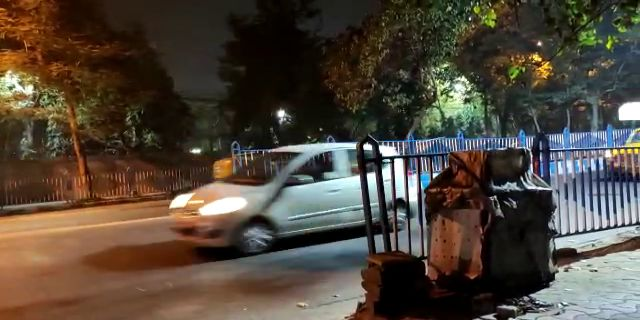Car: (158, 144, 413, 251)
